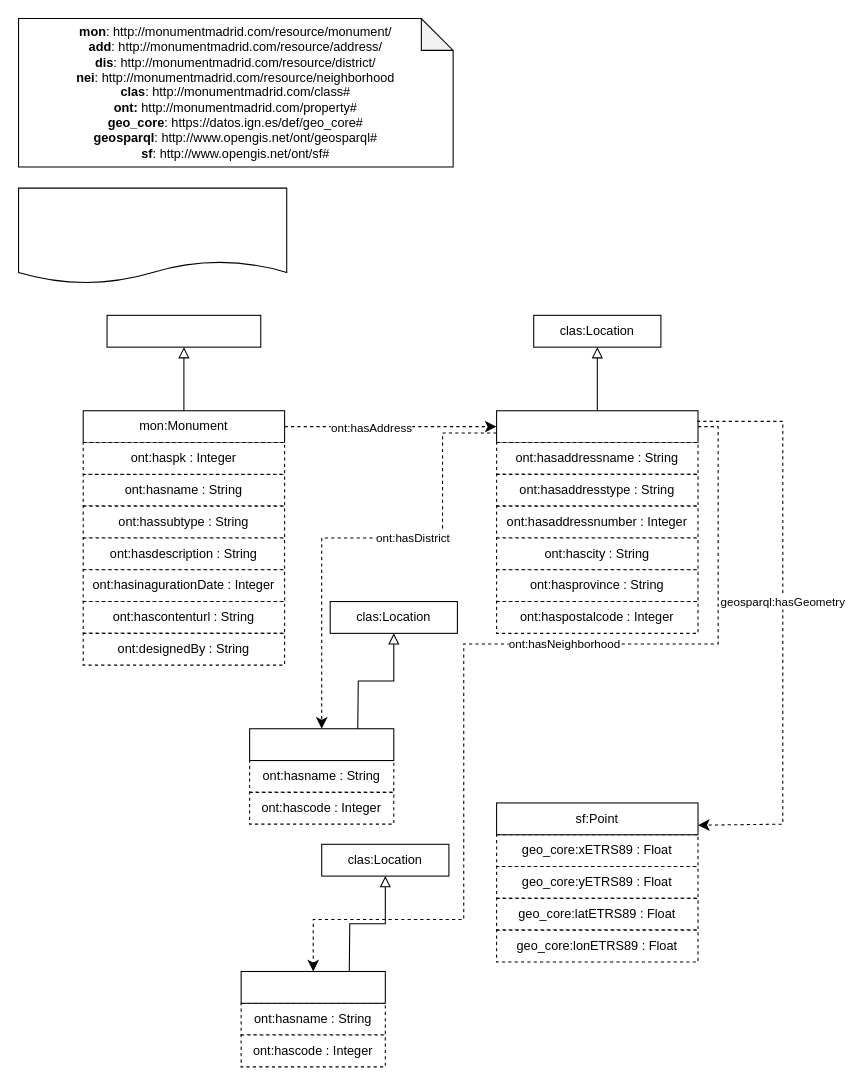
This 863x1085 diagram has some shape labels left out. The shapes that lost their labels are listed below. From the top down, each one's box as (x1, y1, x2, y2) in pixels, then its label:
(17, 187, 287, 284): dc:creator: Grupo 10 owl:versionInfo: 0.0.1 dc:title: Monument Ontology
(106, 314, 261, 347): clas:TouristAttraction
(496, 410, 698, 443): add:Address
(249, 728, 394, 761): dis:District
(240, 970, 385, 1003): dis:Neighborhood
